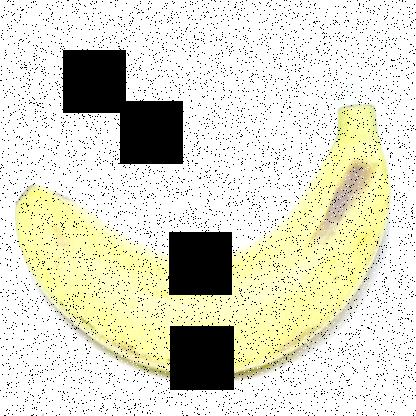freshripe: (4, 87, 410, 403)
